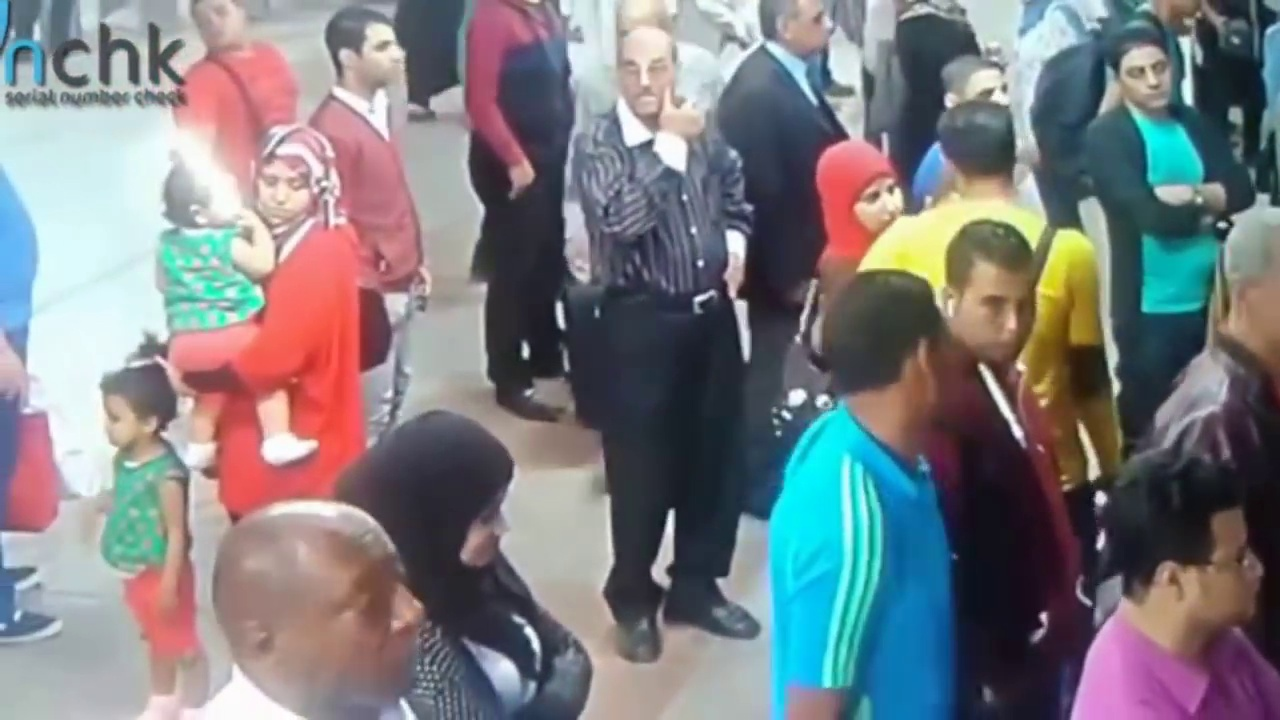face: (287, 538, 425, 712), (1202, 519, 1272, 628), (966, 268, 1041, 364), (463, 482, 509, 576), (614, 48, 672, 117), (1119, 48, 1173, 109), (358, 31, 402, 96), (855, 174, 903, 232), (260, 165, 304, 224), (790, 2, 830, 56), (189, 2, 239, 44), (103, 398, 134, 454)
